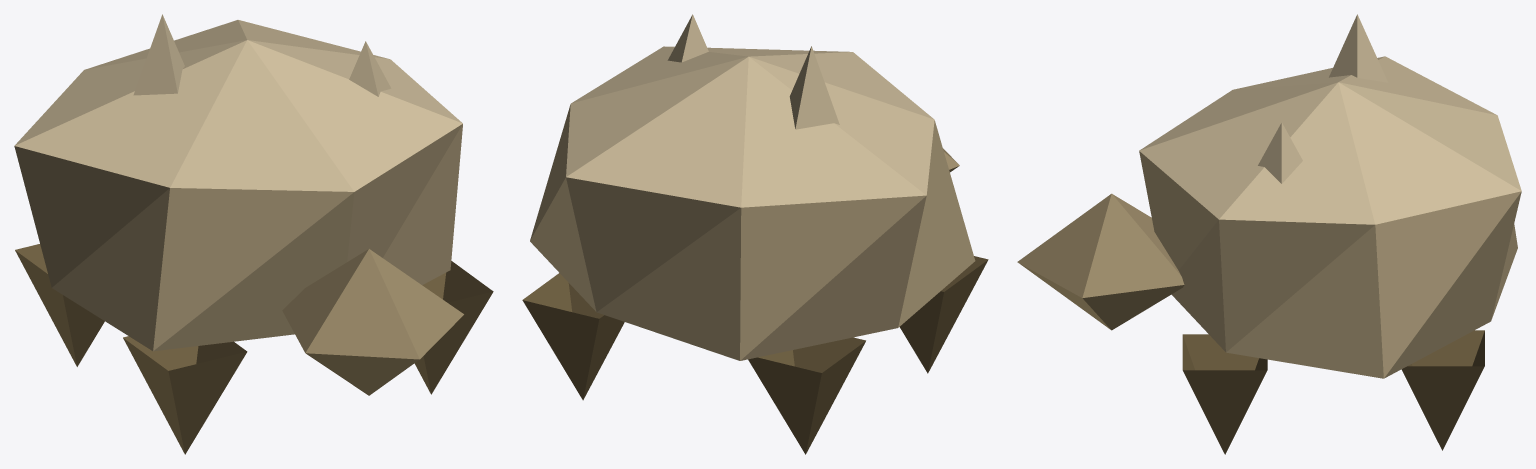
The model's file is pebblin.obj.
3 views of the same model, side by side, from view 1: azimuth 30°, elevation 25°; view 2: azimuth 150°, elevation 25°; view 3: azimuth 270°, elevation 25° (orthographic). The views are drawn at different scales.
Size of the model in its own units: 0.929 by 0.82 by 1.07.
